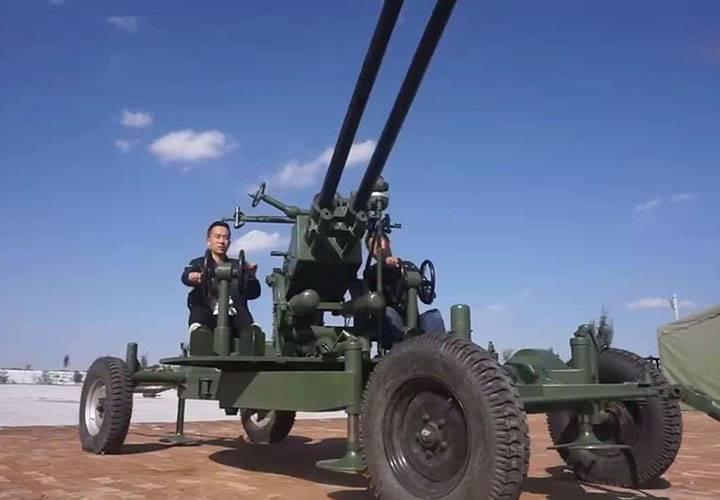MIL_SPG: (80, 0, 682, 499)
